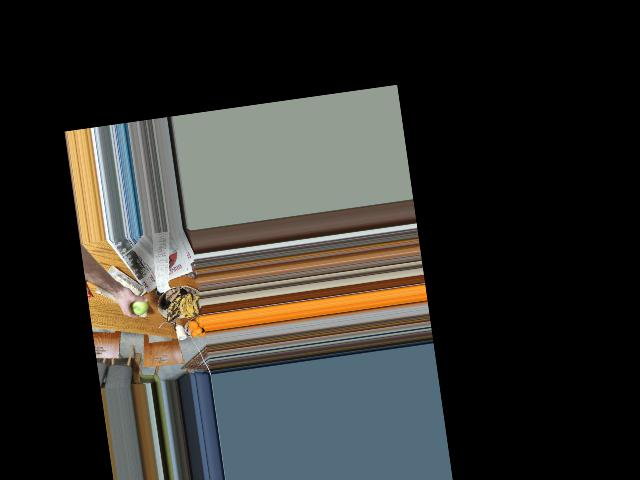apple: (124, 293, 150, 317)
